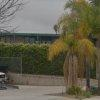Palm tree: (47, 3, 100, 100)
